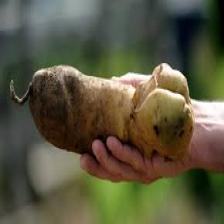Damaged potato: (16, 44, 200, 176)
